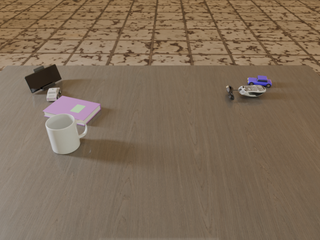book: (43, 96, 101, 126)
cup: (46, 114, 87, 154)
mouse: (238, 85, 266, 97)
phone: (24, 64, 61, 93)
toy_car: (248, 76, 272, 88), (46, 88, 61, 101)
